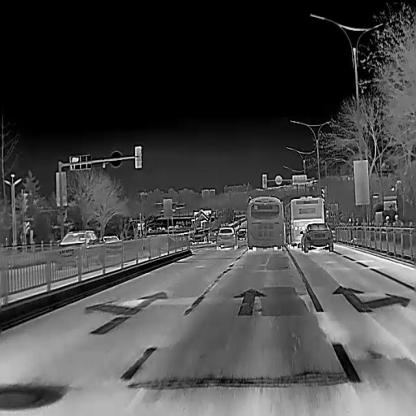bus: (284, 198, 324, 248), (246, 201, 283, 251), (300, 223, 333, 252)
car: (54, 230, 99, 270), (98, 235, 125, 257), (215, 226, 237, 249), (191, 230, 206, 244), (235, 227, 247, 241), (208, 229, 216, 244)
